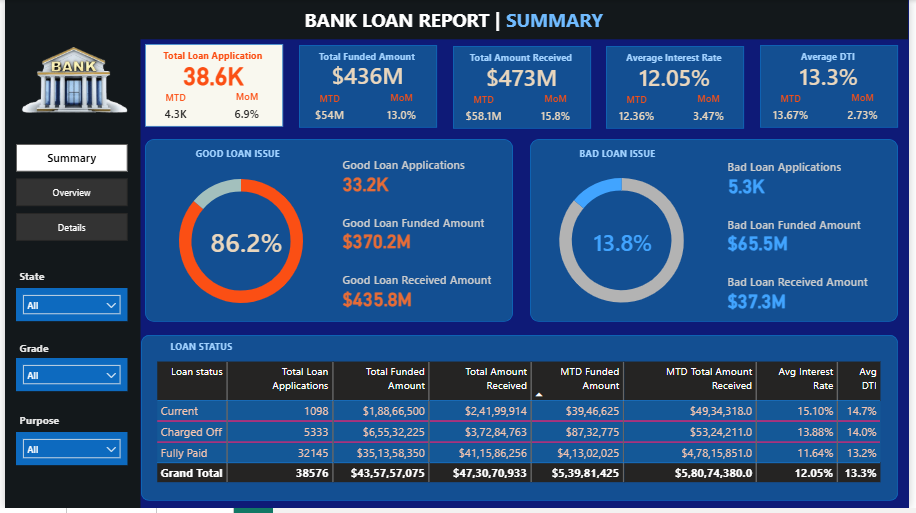

What the dashboard file says about the page in this screenshot:
{"tool":"powerbi","page":{"name":"Summary","canvas":[1280,720],"ordinal":0},"visuals":[{"type":"shape","box":[0,0,1280,55.7],"z":0},{"type":"shape","box":[0,55.3,192,664.7],"z":1000},{"type":"textbox","box":[415.7,4.3,448.6,45.7],"z":2000},{"type":"group","id":"g1","title":"Group 1","box":[198.6,62.9,195.7,117.1],"z":3000},{"type":"shape","box":[198.6,62.9,195.7,117.1],"z":3000,"group":"g1"},{"type":"shape","box":[416.4,63.6,195.7,117.1],"z":3000,"group":"g2"},{"type":"shape","box":[1070,64.3,195.7,117.1],"z":3000,"group":"g5"},{"type":"shape","box":[634.3,65,195.7,117.1],"z":3000,"group":"g3"},{"type":"shape","box":[852.1,65.7,195.7,117.1],"z":3000,"group":"g4"},{"type":"group","id":"g2","title":"Group 1","box":[416.4,63.6,195.7,117.1],"z":4000},{"type":"cardVisual","fields":{"Data":["financial_loan.Total Loan Applications"]},"box":[217.2,71.5,157.1,72.9],"z":4000,"group":"g1"},{"type":"cardVisual","fields":{"Data":["financial_loan.Total Funded Amount"]},"box":[434,72.4,161.4,65.7],"z":4000,"group":"g2"},{"type":"cardVisual","fields":{"Data":["financial_loan.Avg DTI"]},"box":[1087.1,74.7,160,64.3],"z":4000,"group":"g5"},{"type":"cardVisual","fields":{"Data":["financial_loan.Total Amount Received"]},"box":[651.4,75.4,160,64.3],"z":4000,"group":"g3"},{"type":"cardVisual","fields":{"Data":["financial_loan.Avg Interest Rate"]},"box":[869.2,76.1,160,64.3],"z":4000,"group":"g4"},{"type":"textbox","box":[214.3,65.8,161.4,45.7],"z":5000,"group":"g1"},{"type":"textbox","box":[432.1,66.5,161.4,45.7],"z":5000,"group":"g2"},{"type":"textbox","box":[1085.7,67.2,161.4,45.7],"z":5000,"group":"g5"},{"type":"textbox","box":[650,67.9,161.4,45.7],"z":5000,"group":"g3"},{"type":"textbox","box":[867.8,68.6,161.4,45.7],"z":5000,"group":"g4"},{"type":"shape","box":[198.4,197,521.6,259.4],"z":5000},{"type":"cardVisual","title":"MTD","fields":{"Data":["financial_loan.MTD Loan Applications"]},"box":[198.6,130,87.1,47.1],"z":6000,"group":"g1"},{"type":"cardVisual","title":"MTD","fields":{"Data":["financial_loan.MTD Funded Amount"]},"box":[416.4,130.7,87.1,47.1],"z":6000,"group":"g2"},{"type":"cardVisual","title":"MTD","fields":{"Data":["financial_loan.MTD Avg DTI"]},"box":[1070,131.4,87.1,47.1],"z":6000,"group":"g5"},{"type":"cardVisual","title":"MTD","fields":{"Data":["financial_loan.MTD Total Amount Received"]},"box":[634.3,132.1,87.1,47.1],"z":6000,"group":"g3"},{"type":"cardVisual","title":"MTD","fields":{"Data":["financial_loan.MTD Avg Int Rate"]},"box":[852.1,132.8,87.1,47.1],"z":6000,"group":"g4"},{"type":"donutChart","fields":{"Category":["financial_loan.Good vs Bad Loan"],"Y":["financial_loan.Total Loan Applications"]},"box":[209.8,226.8,249.4,229.6],"z":6000},{"type":"cardVisual","title":"MoM","fields":{"Data":["financial_loan.MoM Total Funded Amount"]},"box":[528.2,128.1,67.1,51.4],"z":7000,"group":"g2"},{"type":"cardVisual","title":"MoM","fields":{"Data":["financial_loan.MoM Loan Applications"]},"box":[310,128.6,65.7,50],"z":7000,"group":"g1"},{"type":"cardVisual","title":"MoM","fields":{"Data":["financial_loan.MoM Avg DTI"]},"box":[1181.8,128.8,67.1,51.4],"z":7000,"group":"g5"},{"type":"cardVisual","title":"MoM","fields":{"Data":["financial_loan.MoM Total Amount Received"]},"box":[746.1,129.5,67.1,51.4],"z":7000,"group":"g3"},{"type":"cardVisual","title":"MoM","fields":{"Data":["financial_loan.MoM Avg Int Rate"]},"box":[963.9,130.2,67.1,51.4],"z":7000,"group":"g4"},{"type":"shape","box":[192.1,474.5,1073.1,235],"z":7000},{"type":"cardVisual","fields":{"Data":["financial_loan.Good Loan %"]},"box":[253.7,306.1,178.6,69.4],"z":8000},{"type":"textbox","box":[198.4,477.6,160.2,45.4],"z":9000},{"type":"group","id":"g3","title":"Group 1","box":[634.3,65,195.7,117.1],"z":10000},{"type":"group","id":"g4","title":"Group 1","box":[852.1,65.7,195.7,117.1],"z":11000},{"type":"group","id":"g5","title":"Group 1","box":[1070,64.3,195.7,117.1],"z":12000},{"type":"shape","box":[744.1,197,521.6,259.4],"z":13000},{"type":"cardVisual","fields":{"Data":["financial_loan.Good Loan Applications","financial_loan.Good Loan Funded Amount","financial_loan.Good Loan Received Amount"]},"box":[449.3,193.6,270.5,274.9],"z":14000},{"type":"donutChart","fields":{"Category":["financial_loan.Good vs Bad Loan"],"Y":["financial_loan.Total Loan Applications"]},"box":[749.4,224.7,248.3,230.6],"z":15000},{"type":"textbox","box":[786.3,204,162.6,44.3],"z":16000},{"type":"cardVisual","fields":{"Data":["financial_loan.Bad Loan %"]},"box":[786.3,306,178.8,69.5],"z":17000},{"type":"cardVisual","fields":{"Data":["financial_loan.Bad Loan Applications","financial_loan.Bad Loan Funded Amount","financial_loan.Bad Loan Received Amount"]},"box":[994.7,196.6,270.5,274.9],"z":18000},{"type":"tableEx","fields":{"Values":["financial_loan.loan_status","financial_loan.Total Loan Applications","financial_loan.Total Funded Amount","financial_loan.Total Amount Received","financial_loan.MTD Funded Amount","financial_loan.MTD Total Amount Received","financial_loan.Avg Interest Rate","financial_loan.Avg DTI"]},"box":[209.9,507,1039.1,187.7],"z":19000},{"type":"slicer","fields":{"Values":["financial_loan.address_state"]},"box":[16.3,407.9,158.2,47.3],"z":20000},{"type":"textbox","box":[254.2,204,152.2,45.8],"z":21000},{"type":"textbox","box":[16.3,375.4,81.3,42.9],"z":22000},{"type":"slicer","fields":{"Values":["financial_loan.grade"]},"box":[16.3,507,158.2,47.3],"z":23000},{"type":"textbox","box":[16.3,477.4,81.3,42.9],"z":24000},{"type":"textbox","box":[16.3,579.4,81.3,42.9],"z":25000},{"type":"slicer","fields":{"Values":["financial_loan.purpose"]},"box":[16.3,611.9,158.2,47.3],"z":26000},{"type":"image","box":[18.4,22.7,155.9,181.4],"z":27000},{"type":"pageNavigator","box":[15.6,204.1,158.7,137.5],"z":28000}]}

Visuals, with their boxes in screenshot pixels (x1, y1, x2, y2), scaled from the page's 1280x720 canvas onto the 916x513 screenshot:
shape: (0, 0, 915, 40)
shape: (0, 39, 137, 512)
textbox: (297, 3, 619, 36)
"Group 1" group: (142, 45, 282, 128)
shape: (142, 45, 282, 128)
shape: (298, 45, 438, 129)
shape: (766, 46, 906, 129)
shape: (454, 46, 594, 130)
shape: (610, 47, 750, 130)
"Group 1" group: (298, 45, 438, 129)
cardVisual - financial_loan.Total Loan Applications: (155, 51, 268, 103)
cardVisual - financial_loan.Total Funded Amount: (311, 52, 426, 98)
cardVisual - financial_loan.Avg DTI: (778, 53, 892, 99)
cardVisual - financial_loan.Total Amount Received: (466, 54, 581, 100)
cardVisual - financial_loan.Avg Interest Rate: (622, 54, 737, 100)
textbox: (153, 47, 269, 79)
textbox: (309, 47, 425, 80)
textbox: (777, 48, 892, 80)
textbox: (465, 48, 581, 81)
textbox: (621, 49, 737, 81)
shape: (142, 140, 515, 325)
"MTD" cardVisual: (142, 93, 204, 126)
"MTD" cardVisual: (298, 93, 360, 127)
"MTD" cardVisual: (766, 94, 828, 127)
"MTD" cardVisual: (454, 94, 516, 128)
"MTD" cardVisual: (610, 95, 672, 128)
donutChart - financial_loan.Good vs Bad Loan x financial_loan.Total Loan Applications: (150, 162, 329, 325)
"MoM" cardVisual: (378, 91, 426, 128)
"MoM" cardVisual: (222, 92, 269, 127)
"MoM" cardVisual: (846, 92, 894, 128)
"MoM" cardVisual: (534, 92, 582, 129)
"MoM" cardVisual: (690, 93, 738, 129)
shape: (137, 338, 905, 506)
cardVisual - financial_loan.Good Loan %: (182, 218, 309, 268)
textbox: (142, 340, 257, 373)
"Group 1" group: (454, 46, 594, 130)
"Group 1" group: (610, 47, 750, 130)
"Group 1" group: (766, 46, 906, 129)
shape: (532, 140, 906, 325)
cardVisual - financial_loan.Good Loan Applications x financial_loan.Good Loan Funded Amount: (322, 138, 515, 334)
donutChart - financial_loan.Good vs Bad Loan x financial_loan.Total Loan Applications: (536, 160, 714, 324)
textbox: (563, 145, 679, 177)
cardVisual - financial_loan.Bad Loan %: (563, 218, 691, 268)
cardVisual - financial_loan.Bad Loan Applications x financial_loan.Bad Loan Funded Amount: (712, 140, 905, 336)
tableEx - financial_loan.loan_status x financial_loan.Total Loan Applications: (150, 361, 894, 495)
slicer - financial_loan.address_state: (12, 291, 125, 324)
textbox: (182, 145, 291, 178)
textbox: (12, 267, 70, 298)
slicer - financial_loan.grade: (12, 361, 125, 395)
textbox: (12, 340, 70, 371)
textbox: (12, 413, 70, 443)
slicer - financial_loan.purpose: (12, 436, 125, 470)
image: (13, 16, 125, 145)
pageNavigator: (11, 145, 125, 243)
